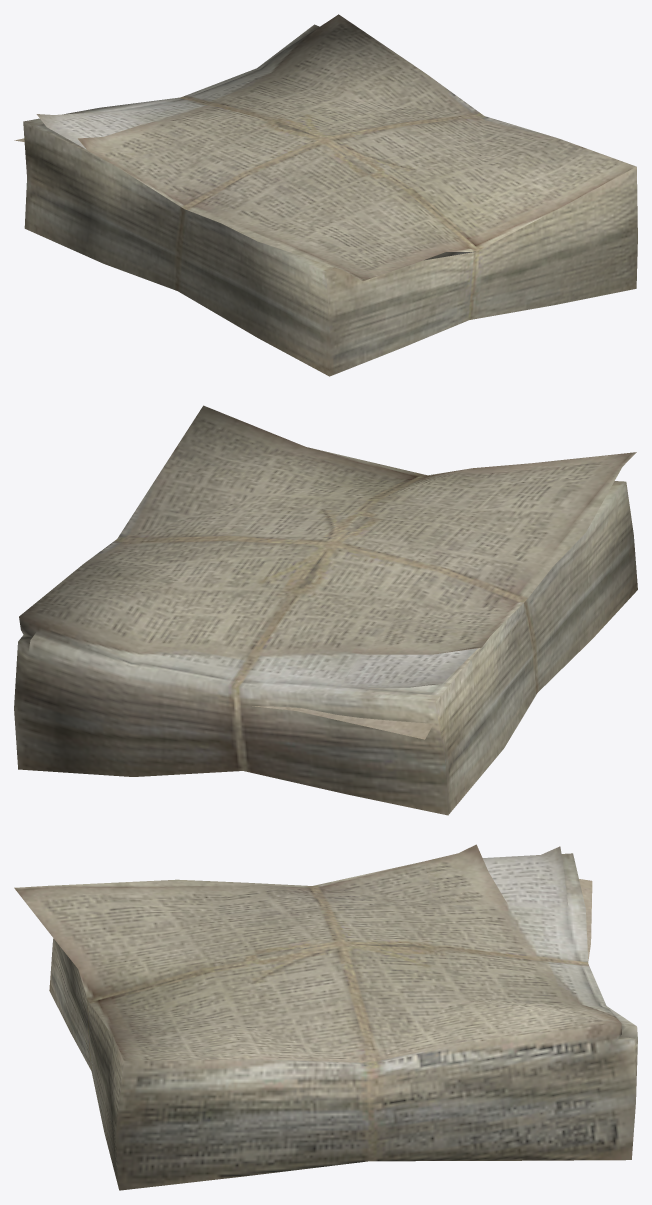
File: OldPapers.fbx
3 views of the same model, one above another, from view 1: azimuth 30°, elevation 25°; view 2: azimuth 150°, elevation 25°; view 3: azimuth 270°, elevation 25° (orthographic). The views are drawn at different scales.
Parts seen in each view (by area): view 1: sm36_009_paperbundle01a_00ms.003; view 2: sm36_009_paperbundle01a_00ms.003; view 3: sm36_009_paperbundle01a_00ms.003.
Boxes of the visible parts, bbox=[...] form: sm36_009_paperbundle01a_00ms.003: bbox=[14, 14, 637, 376]; sm36_009_paperbundle01a_00ms.003: bbox=[14, 405, 637, 815]; sm36_009_paperbundle01a_00ms.003: bbox=[14, 844, 637, 1190].
Bounding box in the file's own units: 30.65 × 9.43 × 37.01.
